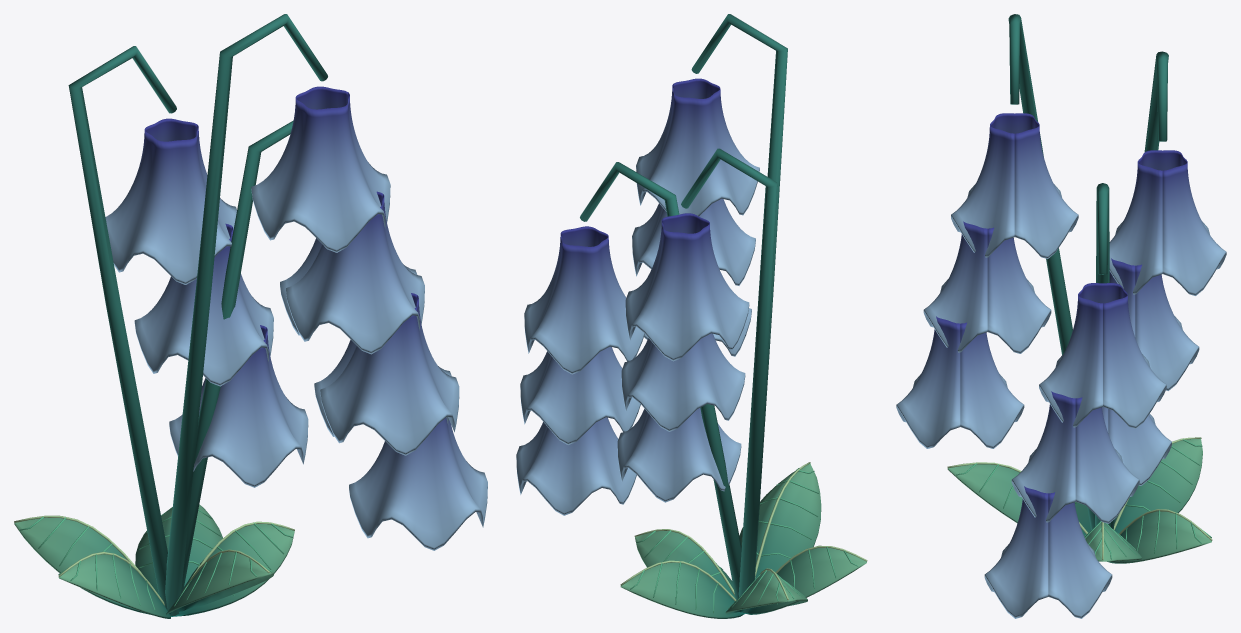
Rendered from enchanted-bluebell.glb.
3 views of the same model, side by side, from view 1: azimuth 30°, elevation 25°; view 2: azimuth 150°, elevation 25°; view 3: azimuth 270°, elevation 25° (orthographic). The views are drawn at different scales.
Parts seen in each view (by area): view 1: enchanted-bluebell-sculpted-details; view 2: enchanted-bluebell-sculpted-details; view 3: enchanted-bluebell-sculpted-details.
Part boxes in pixels (left/top/right/bottom): enchanted-bluebell-sculpted-details: left=14, top=14, right=487, bottom=618; enchanted-bluebell-sculpted-details: left=516, top=14, right=867, bottom=618; enchanted-bluebell-sculpted-details: left=896, top=14, right=1226, bottom=618.
Size of the model in its own units: 0.6871 by 1 by 0.5301.
